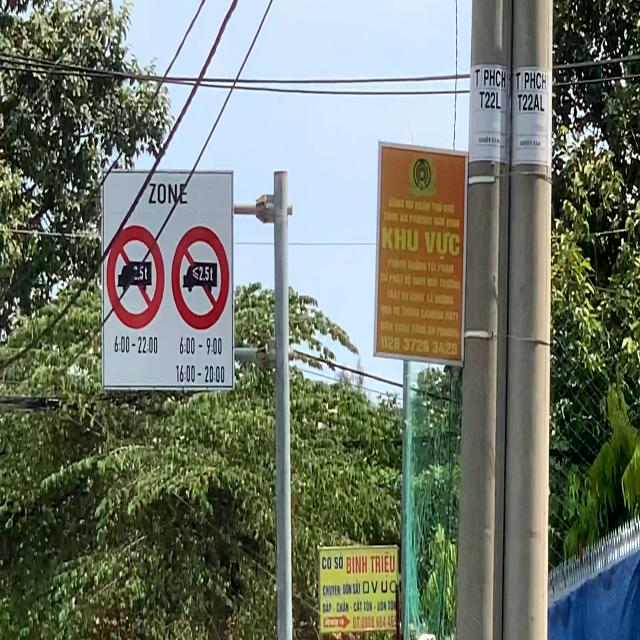P.106b: (106, 225, 165, 330), (171, 227, 230, 331)
